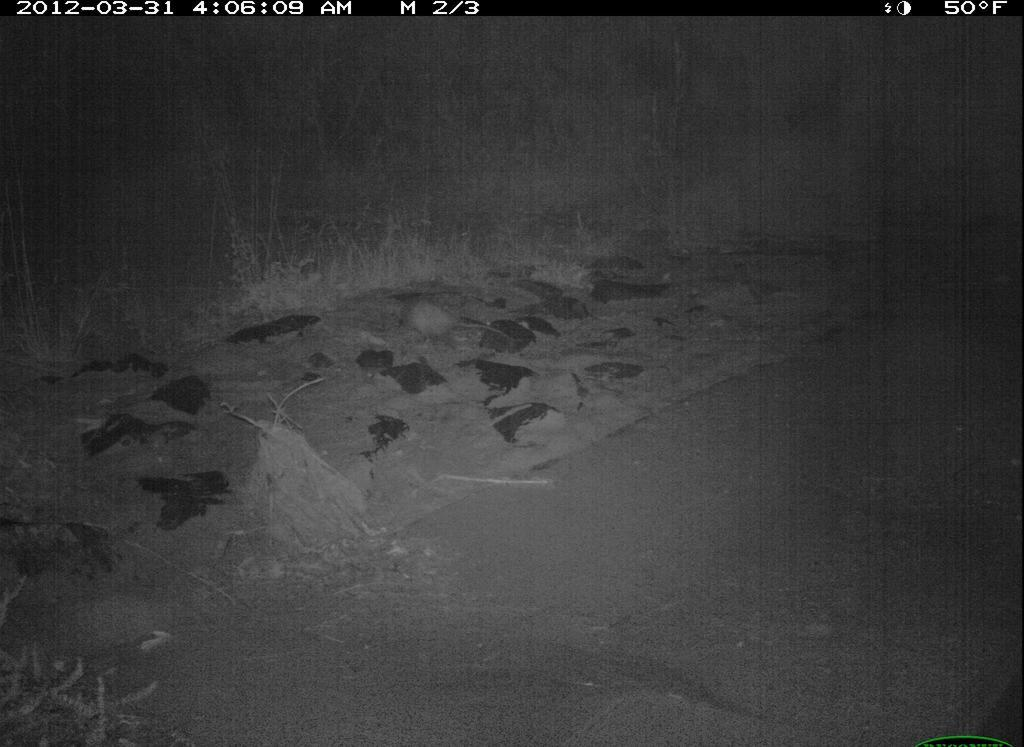opossum: (395, 288, 523, 357)
